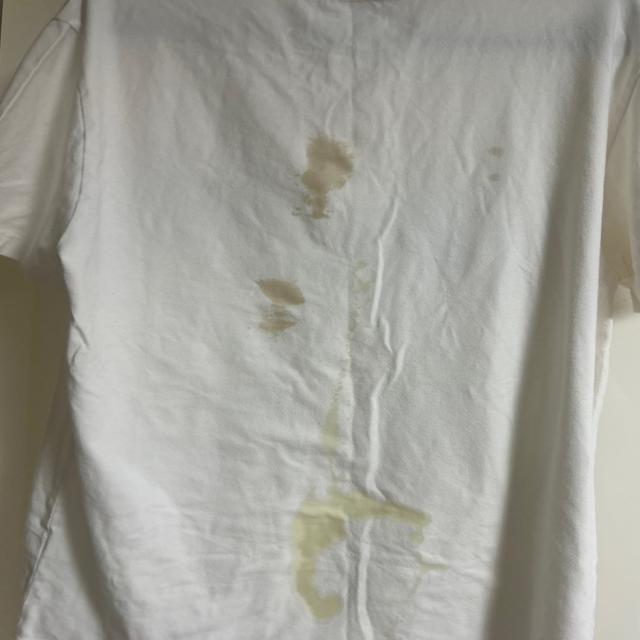stain: (280, 480, 436, 540), (314, 343, 382, 445), (289, 132, 350, 225), (252, 261, 316, 343), (342, 263, 380, 342), (484, 126, 527, 180)
